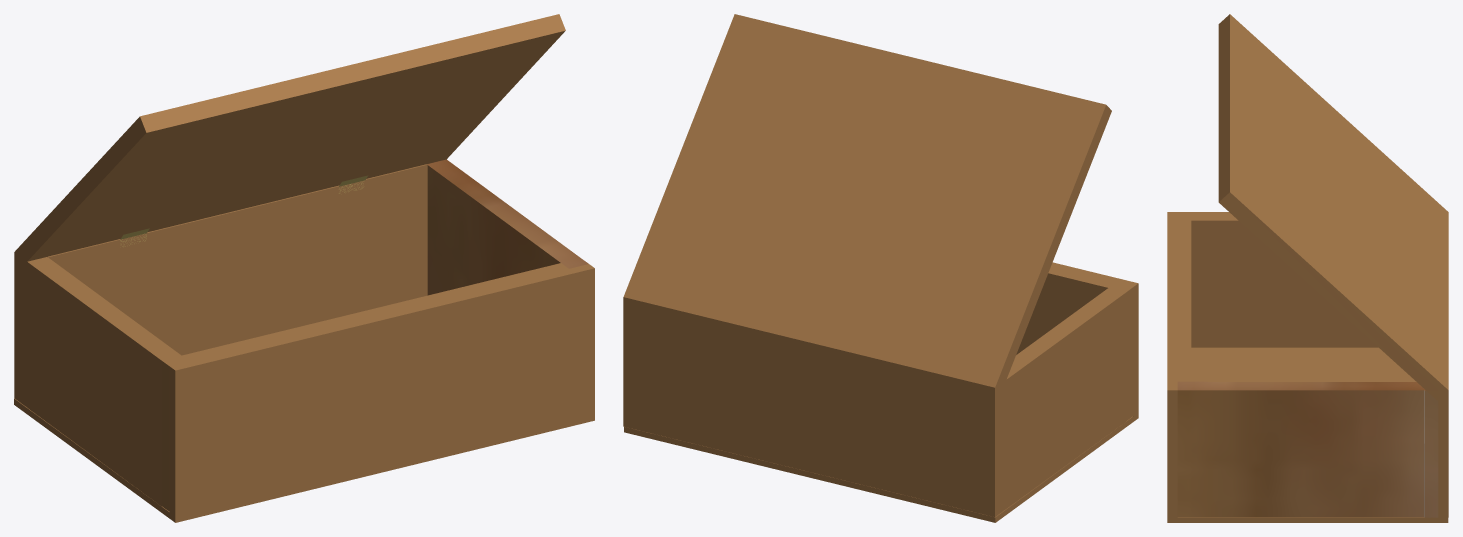
File: small_box.dae
3 views of the same model, side by side, from view 1: azimuth 30°, elevation 25°; view 2: azimuth 150°, elevation 25°; view 3: azimuth 270°, elevation 25° (orthographic). The views are drawn at different scales.
Visible parts, largest first — view 1: box; view 2: box; view 3: box.
Part boxes in pixels (left/top/right/bottom): box: left=14, top=14, right=594, bottom=522; box: left=623, top=14, right=1138, bottom=522; box: left=1167, top=14, right=1448, bottom=522.
Bounding box in the file's own units: 1.26 × 0.841 × 1.09.
3 materials, 2 textured.
